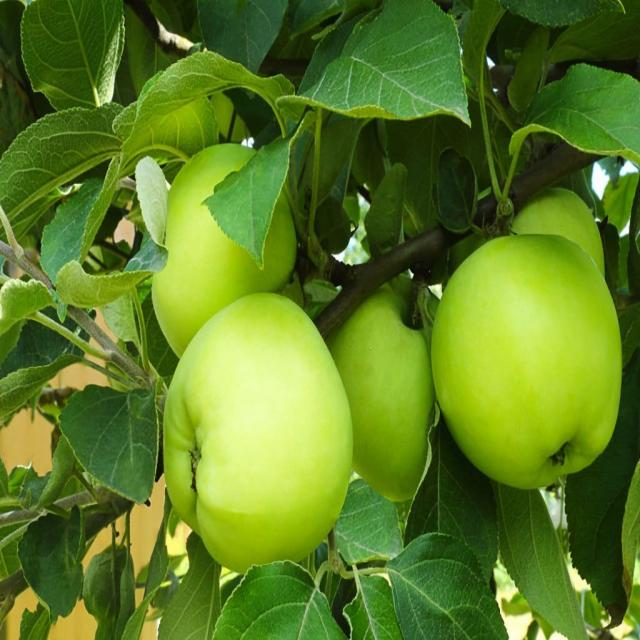Green Apple: (159, 296, 359, 569), (435, 238, 619, 494), (158, 146, 305, 348), (323, 272, 442, 494), (510, 180, 619, 317)
